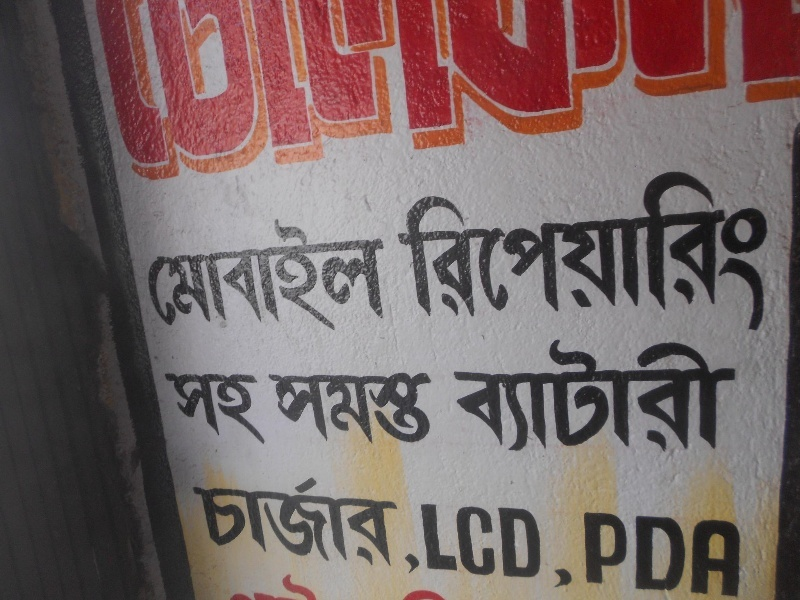text: (97, 4, 112, 179), (113, 4, 128, 179), (129, 4, 144, 179), (145, 4, 160, 179), (161, 4, 176, 179), (177, 4, 192, 179), (193, 4, 208, 179), (209, 4, 224, 179), (225, 4, 240, 179), (241, 4, 256, 179), (257, 4, 272, 179), (273, 4, 288, 179), (289, 4, 304, 179), (305, 4, 320, 179), (321, 4, 336, 179), (337, 4, 352, 179), (353, 4, 368, 179), (369, 4, 384, 179), (385, 4, 400, 179), (401, 4, 416, 179), (417, 4, 432, 179), (433, 4, 448, 179), (449, 4, 464, 179), (465, 4, 480, 179), (481, 4, 496, 179), (497, 4, 512, 179), (513, 4, 528, 179), (529, 4, 544, 179), (545, 4, 560, 179), (561, 4, 576, 179), (577, 4, 592, 179), (593, 4, 608, 179), (609, 4, 624, 179), (625, 4, 640, 179), (641, 4, 656, 179), (657, 4, 672, 179), (673, 4, 688, 179), (689, 4, 704, 179), (705, 4, 720, 179), (721, 4, 736, 179), (737, 4, 752, 179), (753, 4, 768, 179), (769, 4, 784, 179), (401, 170, 416, 332), (417, 170, 432, 332), (433, 170, 448, 332), (449, 170, 464, 332), (465, 170, 480, 332), (481, 170, 496, 332), (497, 170, 512, 332), (513, 170, 528, 332), (529, 170, 544, 332), (545, 170, 560, 332), (561, 170, 576, 332), (577, 170, 592, 332), (593, 170, 608, 332), (609, 170, 624, 332), (625, 170, 640, 332), (641, 170, 656, 332), (657, 170, 672, 332), (673, 170, 688, 332), (689, 170, 704, 332), (705, 170, 720, 332), (721, 170, 736, 332), (737, 170, 752, 332), (753, 170, 768, 332), (785, 4, 798, 179), (465, 337, 480, 453), (481, 337, 496, 453), (497, 337, 512, 453), (513, 337, 528, 453), (529, 337, 544, 453), (545, 337, 560, 453), (561, 337, 576, 453), (577, 337, 592, 453), (593, 337, 608, 453), (609, 337, 624, 453), (625, 337, 640, 453), (641, 337, 656, 453), (657, 337, 672, 453), (673, 337, 688, 453), (689, 337, 704, 453), (705, 337, 720, 453), (721, 337, 736, 453), (161, 221, 176, 331), (177, 221, 192, 331), (193, 221, 208, 331), (209, 221, 224, 331), (225, 221, 240, 331), (241, 221, 256, 331), (257, 221, 272, 331), (273, 221, 288, 331), (289, 221, 304, 331), (305, 221, 320, 331), (321, 221, 336, 331), (337, 221, 352, 331), (353, 221, 368, 331), (369, 221, 384, 331), (769, 170, 779, 332), (193, 476, 208, 568), (209, 476, 224, 568), (225, 476, 240, 568), (241, 476, 256, 568), (257, 476, 272, 568), (273, 476, 288, 568), (289, 476, 304, 568), (305, 476, 320, 568), (321, 476, 336, 568), (337, 476, 352, 568), (353, 476, 368, 568), (369, 476, 384, 568), (385, 476, 400, 568), (148, 221, 160, 331), (561, 513, 576, 596), (577, 513, 592, 596), (593, 513, 608, 596), (609, 513, 624, 596), (625, 513, 640, 596), (641, 513, 656, 596), (657, 513, 672, 596), (673, 513, 688, 596), (689, 513, 704, 596), (705, 513, 720, 596), (721, 513, 736, 596), (257, 371, 273, 447), (454, 337, 464, 453), (177, 371, 192, 447), (193, 371, 208, 447), (209, 371, 224, 447), (225, 371, 240, 447), (241, 371, 256, 447), (417, 503, 432, 579), (433, 503, 448, 579), (449, 503, 464, 579), (465, 503, 480, 579), (481, 503, 496, 579), (497, 503, 512, 579), (513, 503, 528, 579), (529, 503, 544, 579), (273, 372, 288, 444), (289, 372, 304, 444), (305, 372, 320, 444), (321, 372, 336, 444), (337, 372, 352, 444), (353, 372, 368, 444), (369, 372, 384, 444), (385, 372, 400, 444), (401, 372, 416, 444), (417, 372, 432, 444), (163, 371, 176, 447), (403, 503, 416, 579), (554, 513, 560, 596), (737, 513, 743, 596), (397, 170, 400, 332), (241, 575, 256, 600), (257, 575, 272, 600), (273, 575, 288, 600), (289, 575, 304, 600), (305, 575, 320, 600), (321, 575, 336, 600), (337, 575, 352, 600), (353, 575, 368, 600), (369, 575, 384, 600), (385, 575, 400, 600), (401, 575, 416, 600), (417, 575, 432, 600), (267, 372, 272, 444), (433, 372, 438, 444), (737, 337, 740, 453), (433, 575, 446, 600), (95, 4, 96, 179), (235, 575, 240, 600), (385, 221, 386, 331)
